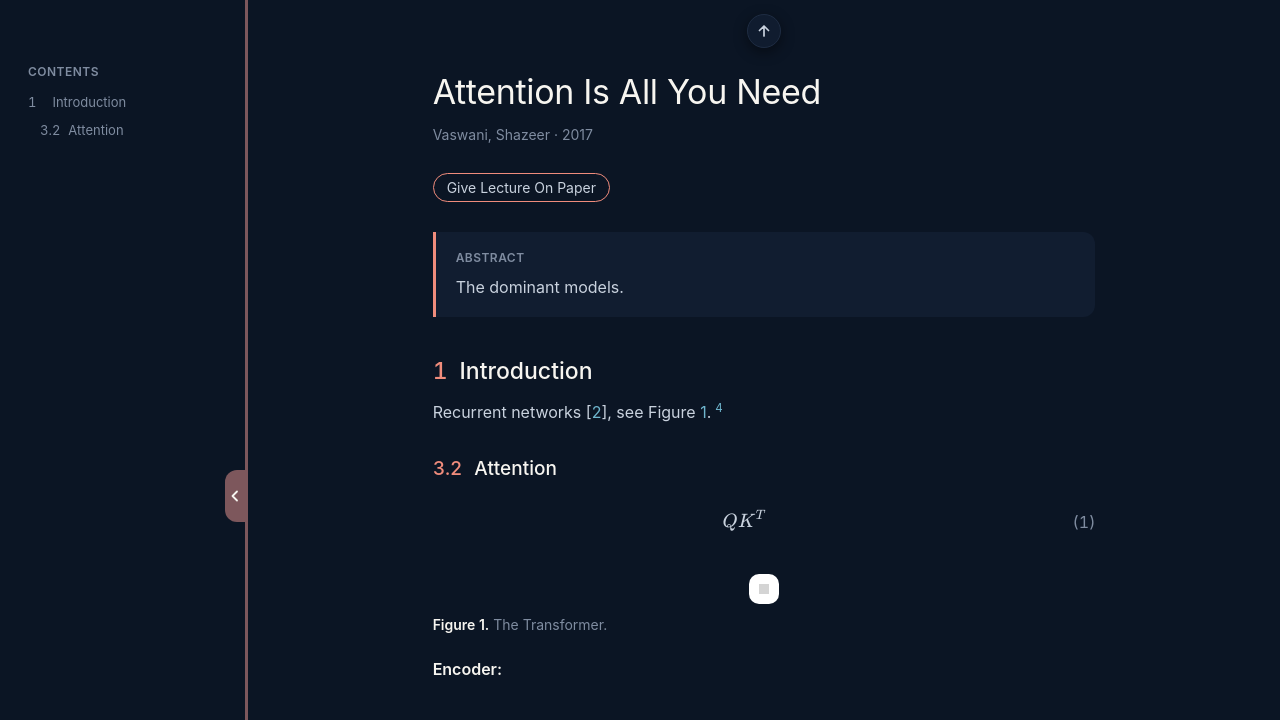
Test: previews a card on hover and lets it go when the pointer leaves
This screenshot has width=1280, height=720.
Hover over the link "2" at [597, 412], box [592, 402, 602, 422]
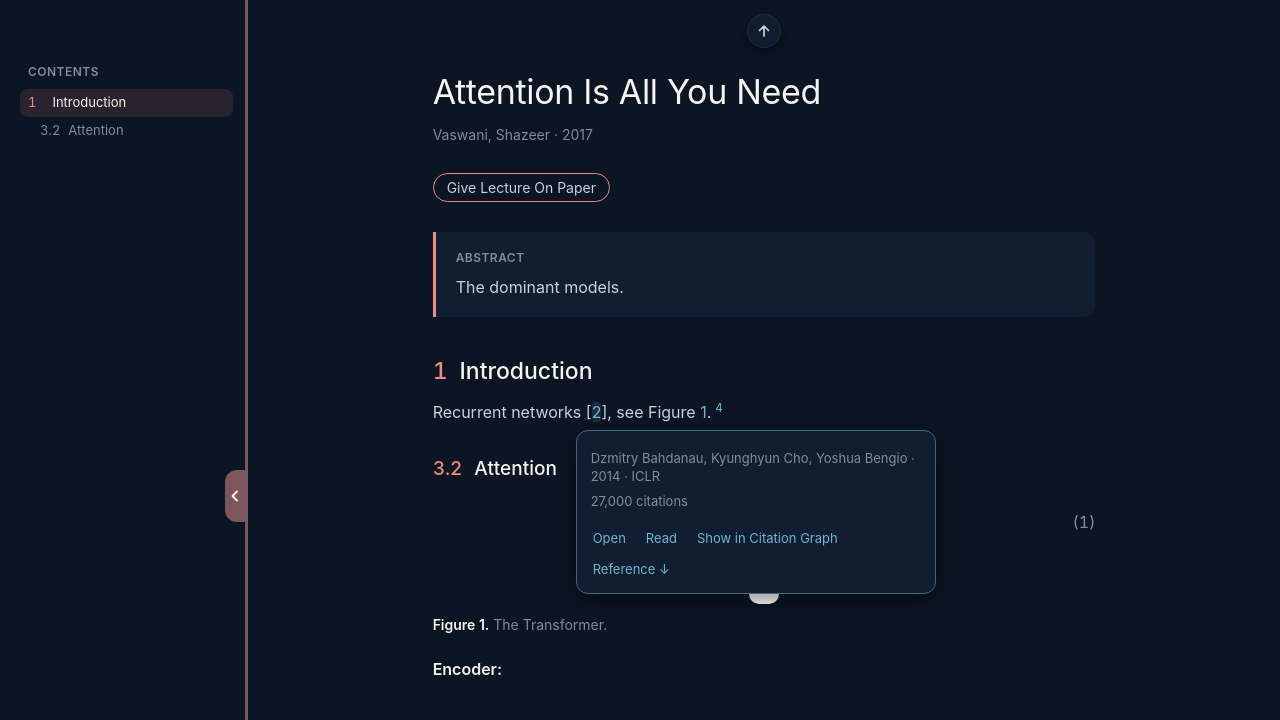
Hover over the dialog at [756, 512], box [576, 430, 936, 594]
Result: the dialog is shown
Move the pointer off the dialog, box [576, 430, 936, 594]
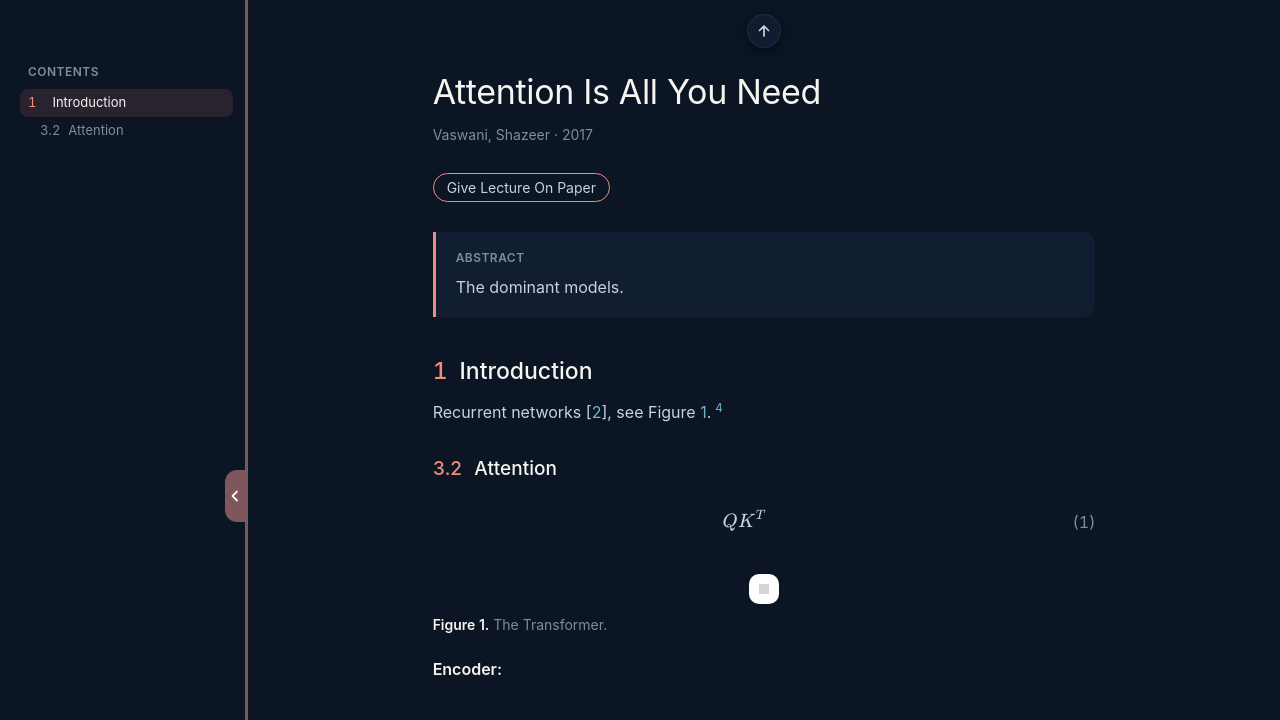
Result: the dialog is gone
